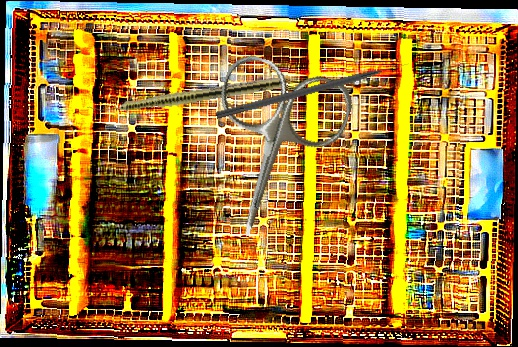Handpiece: (87, 73, 287, 120)
Hook Surgical: (215, 59, 411, 121)
Iris Scissors: (183, 49, 358, 255)
